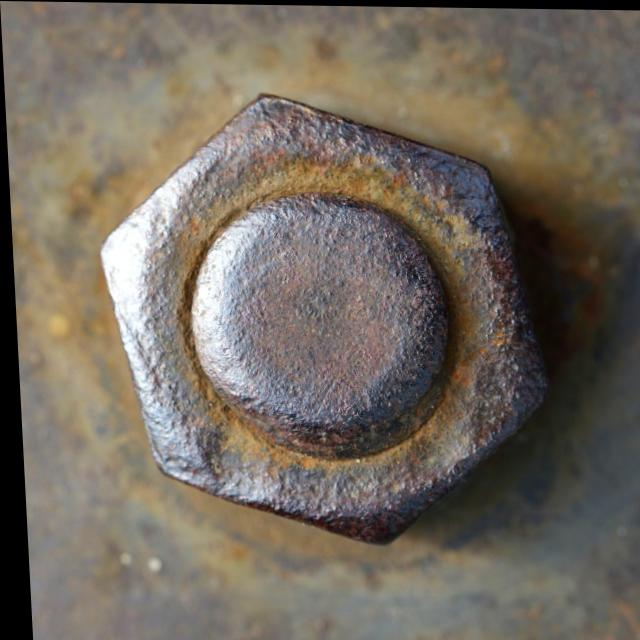Rusty bolt: (87, 90, 547, 547)
